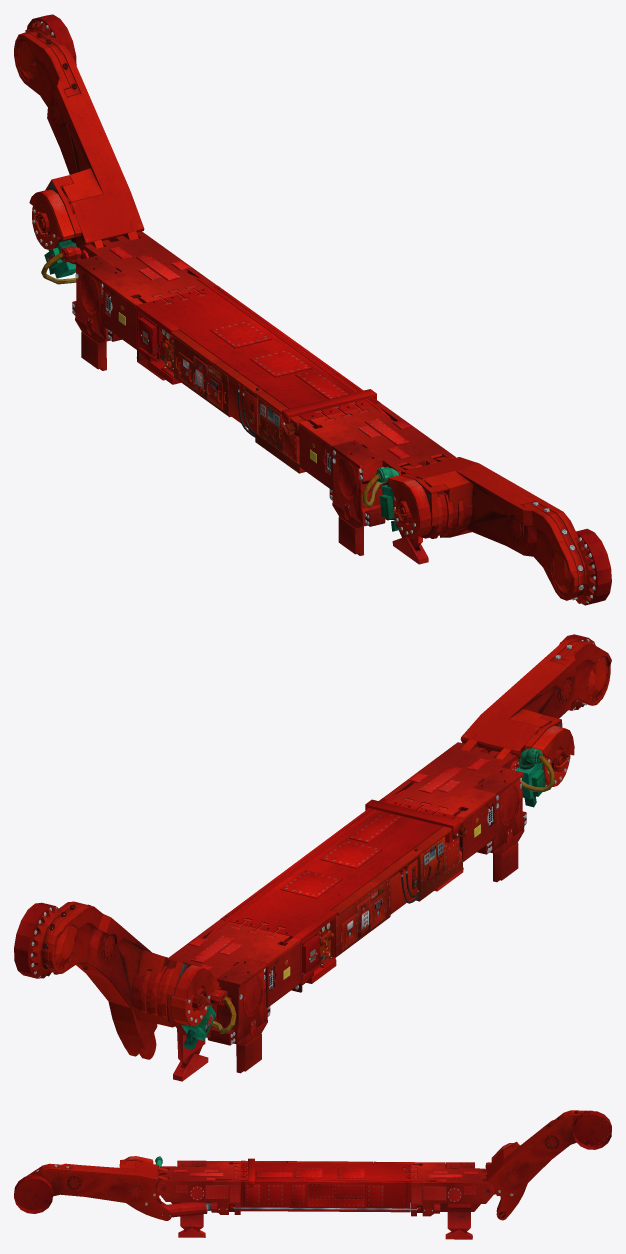
The model's file is HJMK_TC_CaiMeiJi_v01.FBX.
3 renders of one model, top to bottom at view 1: azimuth 30°, elevation 25°; view 2: azimuth 150°, elevation 25°; view 3: azimuth 270°, elevation 25°, orthographic. The views are drawn at different scales.
Parts seen in each view (by area): view 1: HJ_MKTC_007_07, HJ_MKTC_007_08, HJ_MKTC_007_10, HJ_MKTC_007_01, HJ_MKTC_007_03, HJ_MKTC_007_00, HJ_MKTC_007_05, HJ_MKTC_007_04, HJ_MKTC_007_02; view 2: HJ_MKTC_007_08, HJ_MKTC_007_01, HJ_MKTC_007_07, HJ_MKTC_007_10, HJ_MKTC_007_03, HJ_MKTC_007_00, HJ_MKTC_007_04, HJ_MKTC_007_05, HJ_MKTC_007_02; view 3: HJ_MKTC_007_01, HJ_MKTC_007_07, HJ_MKTC_007_08, HJ_MKTC_007_10, HJ_MKTC_007_04, 对象004, HJ_MKTC_007_03, HJ_MKTC_007_00, HJ_MKTC_007_05.
Part boxes in pixels (left/top/right/bottom): HJ_MKTC_007_07: left=379, top=456, right=611, bottom=605; HJ_MKTC_007_08: left=14, top=14, right=144, bottom=278; HJ_MKTC_007_10: left=72, top=231, right=455, bottom=525; HJ_MKTC_007_01: left=144, top=274, right=390, bottom=422; HJ_MKTC_007_03: left=41, top=246, right=386, bottom=555; HJ_MKTC_007_00: left=170, top=330, right=305, bottom=461; HJ_MKTC_007_05: left=136, top=303, right=376, bottom=438; HJ_MKTC_007_04: left=80, top=247, right=428, bottom=564; HJ_MKTC_007_02: left=236, top=383, right=398, bottom=487; HJ_MKTC_007_08: left=14, top=901, right=219, bottom=1059; HJ_MKTC_007_01: left=205, top=790, right=456, bottom=939; HJ_MKTC_007_07: left=460, top=634, right=611, bottom=807; HJ_MKTC_007_10: left=169, top=742, right=526, bottom=1044; HJ_MKTC_007_03: left=207, top=751, right=554, bottom=1073; HJ_MKTC_007_00: left=329, top=817, right=465, bottom=957; HJ_MKTC_007_04: left=173, top=752, right=519, bottom=1081; HJ_MKTC_007_05: left=293, top=799, right=460, bottom=984; HJ_MKTC_007_02: left=399, top=748, right=542, bottom=903; HJ_MKTC_007_01: left=229, top=1162, right=429, bottom=1212; HJ_MKTC_007_07: left=14, top=1156, right=171, bottom=1220; HJ_MKTC_007_08: left=483, top=1110, right=611, bottom=1220; HJ_MKTC_007_10: left=156, top=1161, right=495, bottom=1216; HJ_MKTC_007_04: left=158, top=1167, right=493, bottom=1239; 对象004: left=163, top=1202, right=207, bottom=1217; HJ_MKTC_007_03: left=177, top=1160, right=490, bottom=1168; HJ_MKTC_007_00: left=241, top=1160, right=373, bottom=1163; HJ_MKTC_007_05: left=248, top=1158, right=410, bottom=1187.
Size of the model in its own units: 1.45 by 3.2 by 13.16.
